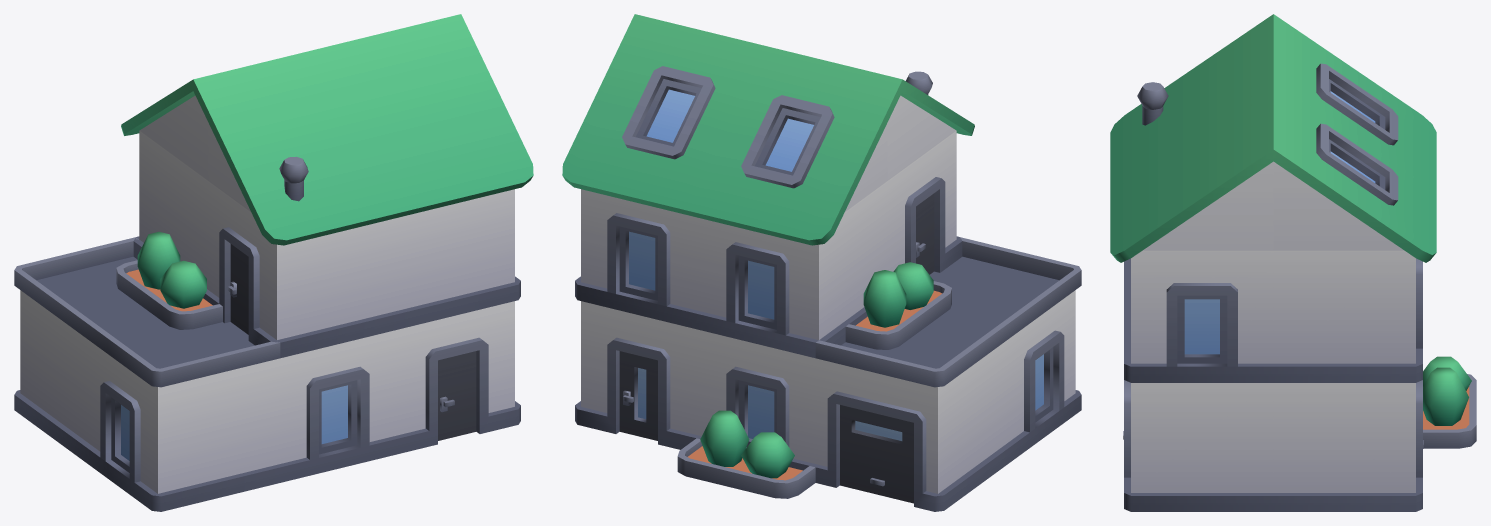
File: u-building-type-o.glb
3 views of the same model, side by side, from view 1: azimuth 30°, elevation 25°; view 2: azimuth 150°, elevation 25°; view 3: azimuth 270°, elevation 25° (orthographic). The views are drawn at different scales.
Visible parts, largest first — view 1: building-type-o; view 2: building-type-o; view 3: building-type-o.
Boxes of the visible parts, left/top/right/bottom form: building-type-o: left=14, top=14, right=533, bottom=511; building-type-o: left=562, top=14, right=1081, bottom=511; building-type-o: left=1110, top=14, right=1476, bottom=511.
Bounding box in the file's own units: 1.27 × 1.14 × 1.03.
1 material, 1 textured.
